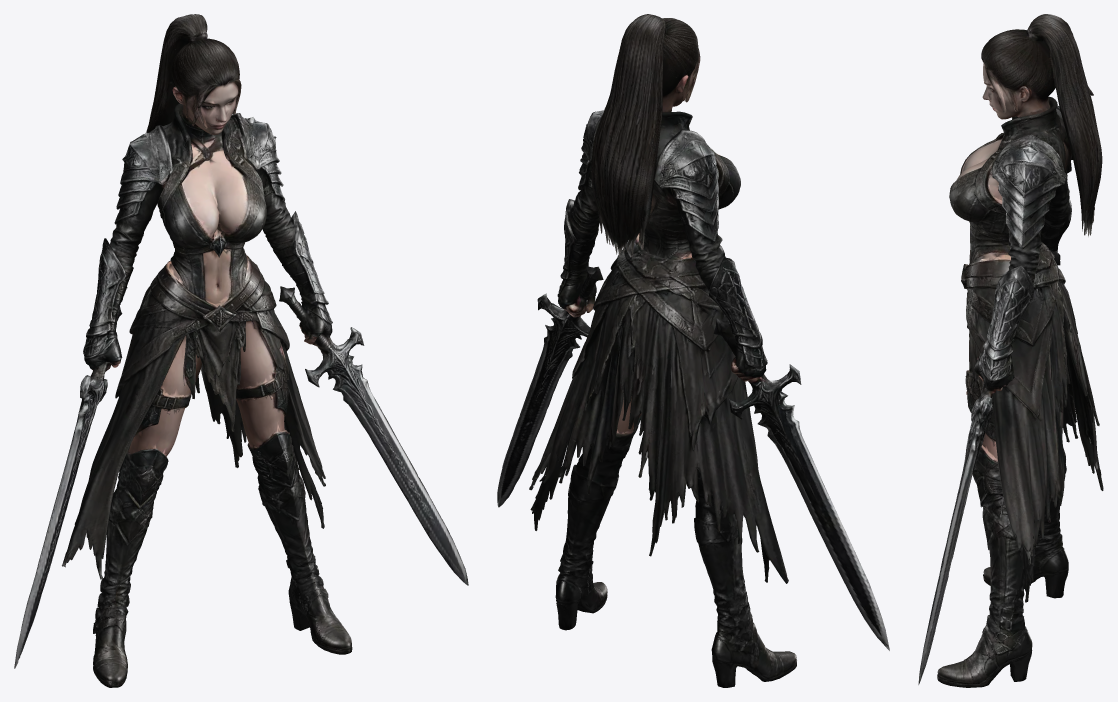
3 views of the same model, side by side, from view 1: azimuth 30°, elevation 25°; view 2: azimuth 150°, elevation 25°; view 3: azimuth 270°, elevation 25° (orthographic). The views are drawn at different scales.
Parts seen in each view (by area): view 1: tripo_node_78077659-1e92-4349-a429-1587de2412ae; view 2: tripo_node_78077659-1e92-4349-a429-1587de2412ae; view 3: tripo_node_78077659-1e92-4349-a429-1587de2412ae.
Part boxes in pixels (x1=…): tripo_node_78077659-1e92-4349-a429-1587de2412ae: x1=14, y1=14, x2=468, y2=687; tripo_node_78077659-1e92-4349-a429-1587de2412ae: x1=497, y1=14, x2=889, y2=687; tripo_node_78077659-1e92-4349-a429-1587de2412ae: x1=918, y1=14, x2=1103, y2=687.
Bounding box in the file's own units: 0.6839 × 0.9807 × 0.2663.
Materials: 1 (1 with a texture image).
